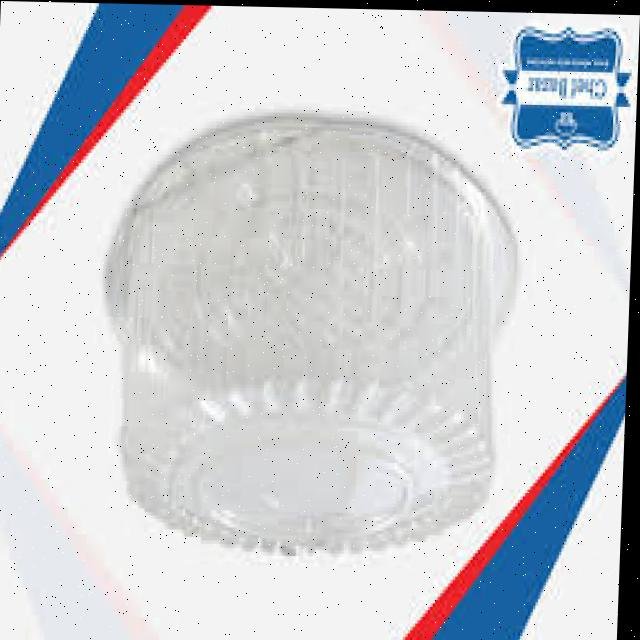disposable: (97, 103, 529, 578)
